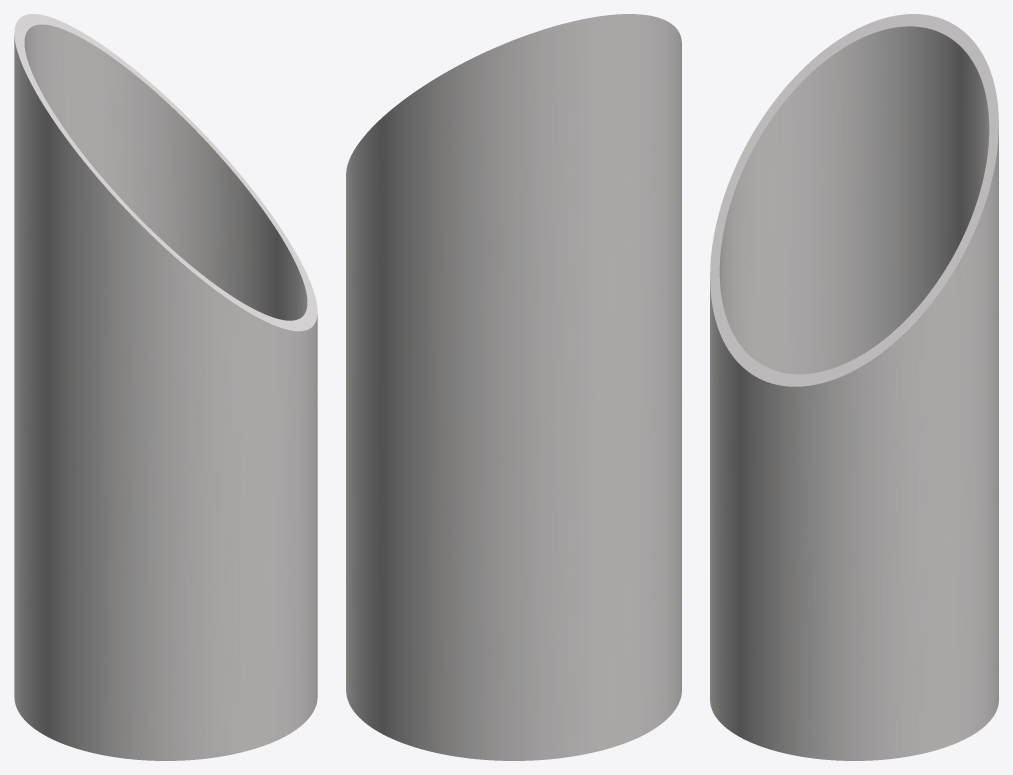
Rendered from pawn-white.glb.
The picture shows the model from 3 angles, left to right: view 1: azimuth 30°, elevation 25°; view 2: azimuth 150°, elevation 25°; view 3: azimuth 270°, elevation 25°; orthographic projection. The views are drawn at different scales.
Parts seen in each view (by area): view 1: 05_pesec_bila; view 2: 05_pesec_bila; view 3: 05_pesec_bila.
Part boxes in pixels (left/top/right/bottom): 05_pesec_bila: left=14, top=14, right=317, bottom=760; 05_pesec_bila: left=346, top=14, right=681, bottom=760; 05_pesec_bila: left=710, top=14, right=998, bottom=760.
Bounding box in the file's own units: 0.4634 × 1.12 × 0.4634.
1 material, 1 textured.
